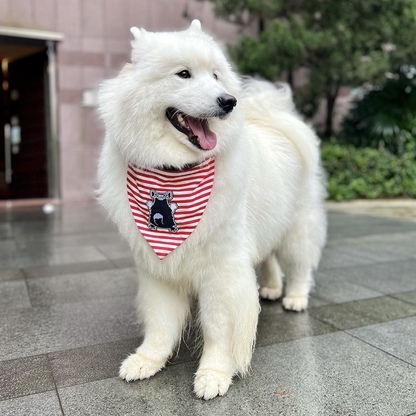samoyed: (90, 15, 335, 403)
